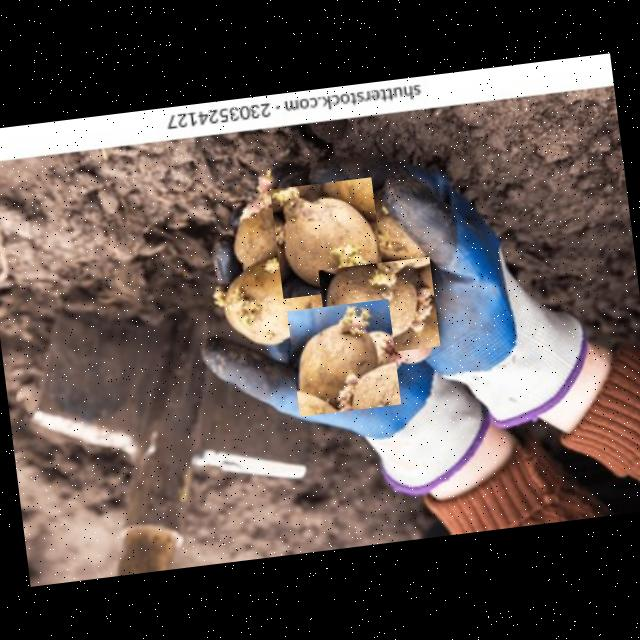Sprouted potato: (200, 248, 332, 354), (270, 176, 384, 298), (286, 298, 401, 416), (318, 256, 440, 359)
